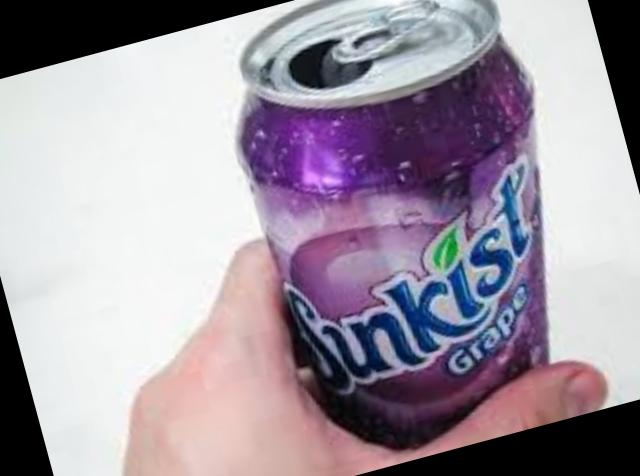metal: (232, 0, 541, 443)
